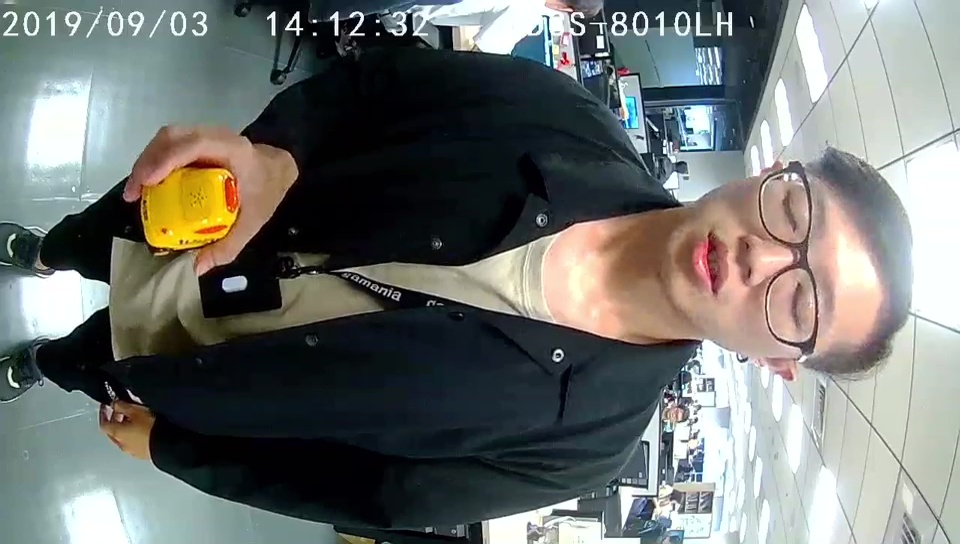car: (138, 163, 240, 251)
